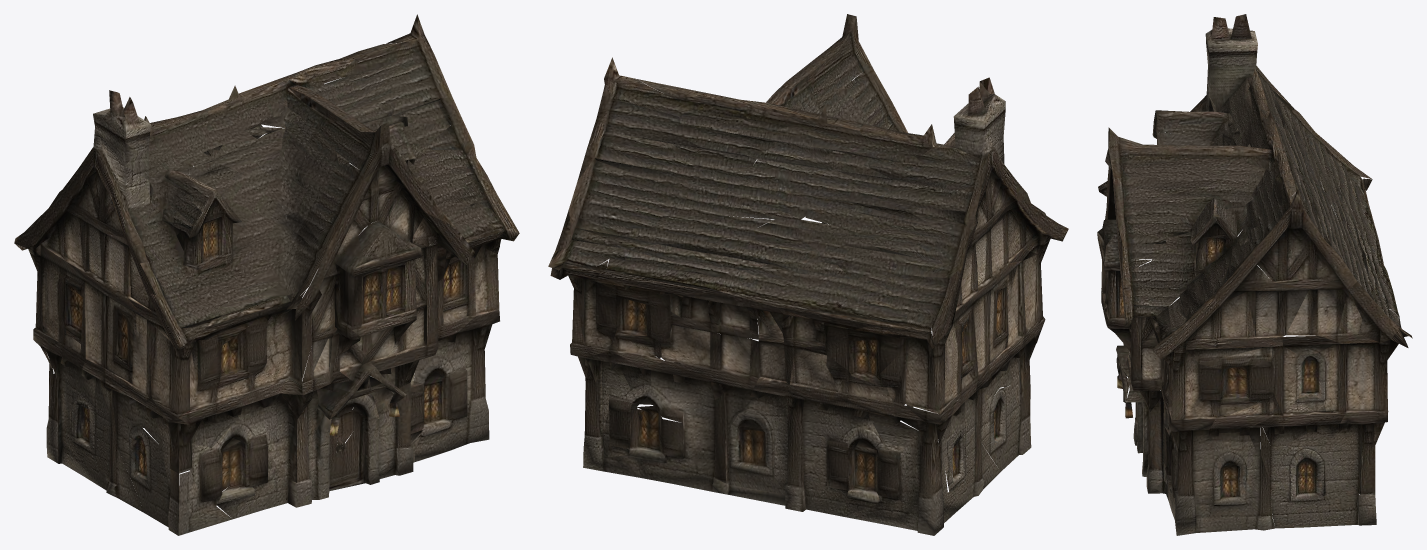
File: house-c.glb
3 views of the same model, side by side, from view 1: azimuth 30°, elevation 25°; view 2: azimuth 150°, elevation 25°; view 3: azimuth 270°, elevation 25° (orthographic). The views are drawn at different scales.
Size of the model in its own units: 0.9981 by 1 by 0.7731.
Materials: 1 (1 with a texture image).
